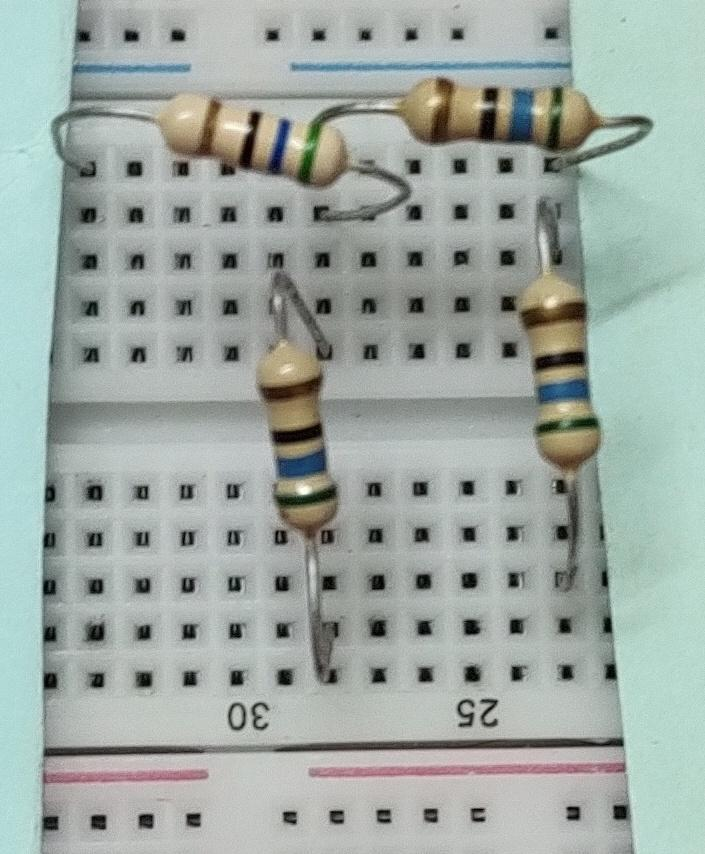resistor: (505, 262, 617, 478), (142, 85, 352, 197), (247, 335, 349, 541), (390, 69, 605, 158)
